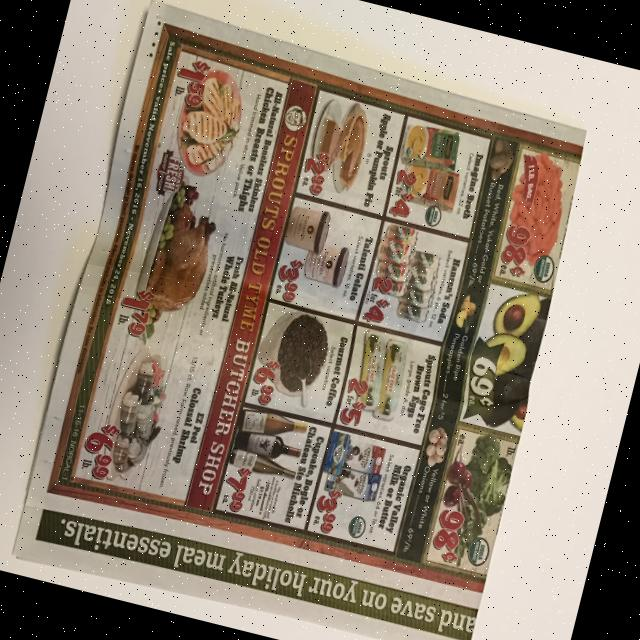paper: (9, 0, 605, 640)
